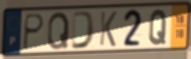2: (122, 8, 144, 50)
D: (70, 10, 96, 51)
K: (98, 10, 118, 49)
P: (21, 12, 46, 51)
Q: (46, 11, 71, 52), (147, 9, 169, 47)
